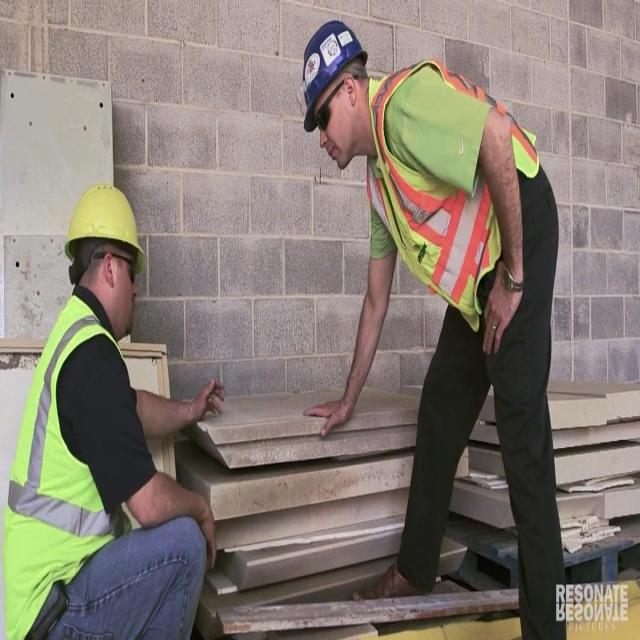Vest: (362, 61, 538, 329), (4, 295, 137, 638)
